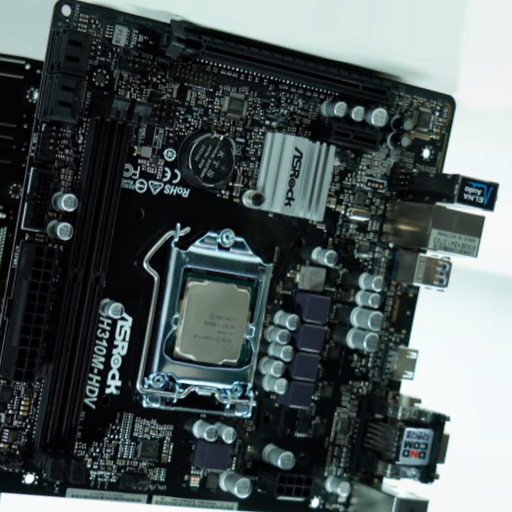CPU: (141, 231, 274, 407)
GPU: (166, 20, 396, 108)
MOTHERBOARD: (4, 1, 477, 512)
RAM: (41, 94, 149, 481)
